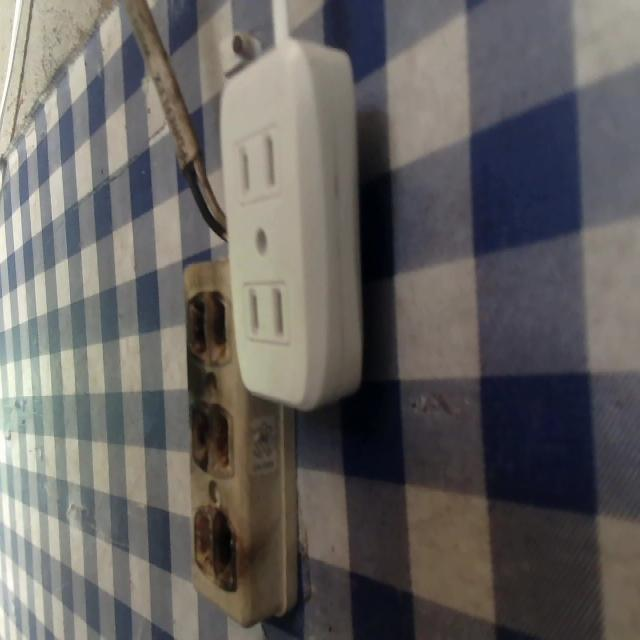-: (191, 502, 238, 594), (184, 286, 232, 366), (194, 398, 235, 478)
